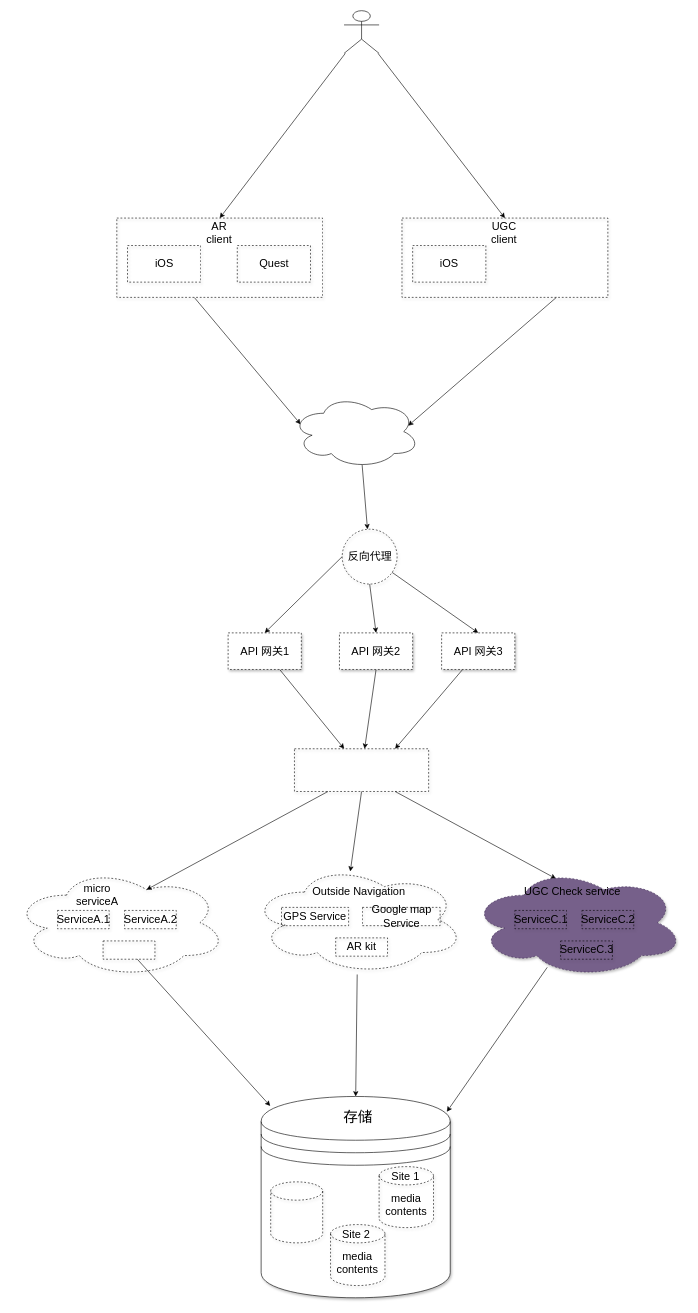
Some shapes in this 698 by 1313 pixel diagram are drawn without their labels. Here are the shapes that lost their labels. From the top down, the centre of each, then its label:
point (361, 31): User
point (355, 431): 互联网
point (361, 771): service monitor center
point (129, 950): ServiceA.3
point (297, 1213): user data
